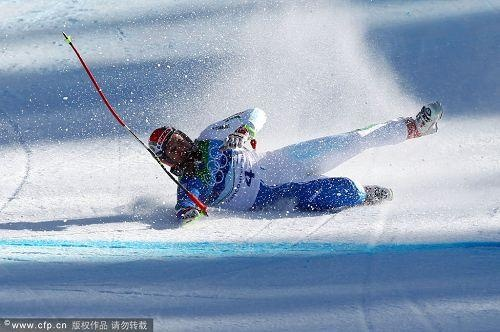falling: (138, 77, 463, 227)
